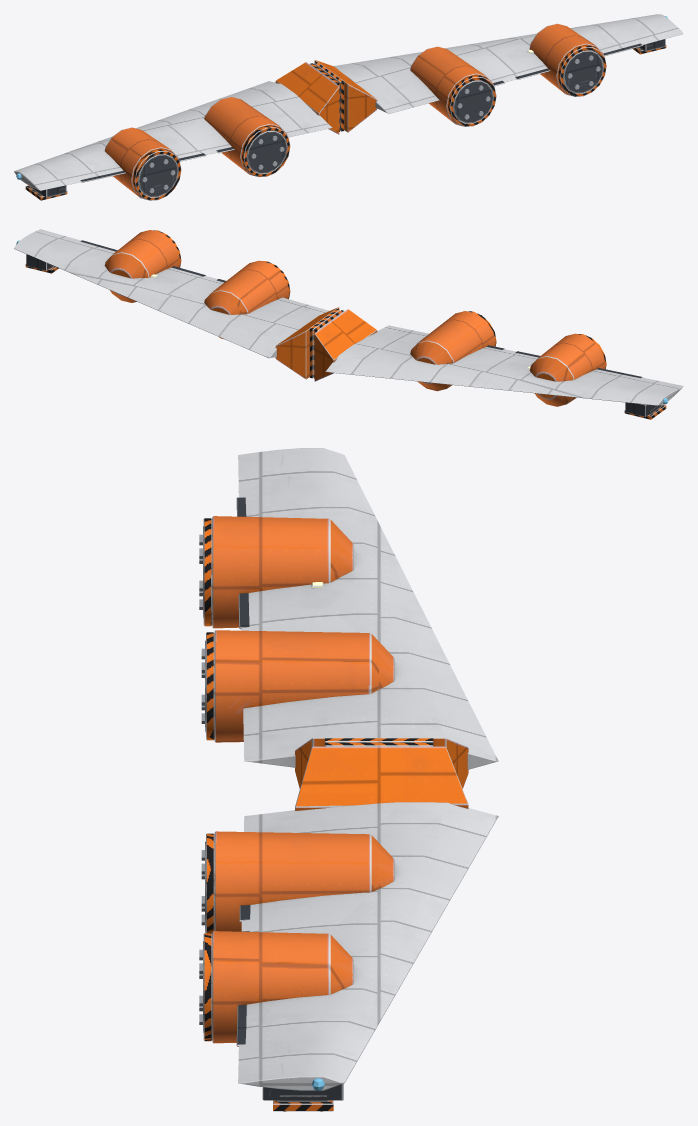
File: ala_larga_t2.fbx
The picture shows the model from 3 angles, top to bottom: view 1: azimuth 30°, elevation 25°; view 2: azimuth 150°, elevation 25°; view 3: azimuth 270°, elevation 25°; orthographic projection. The views are drawn at different scales.
Parts seen in each view (by area): view 1: ala_larga_t2_izq, ala_larga_t2_der; view 2: ala_larga_t2_izq, ala_larga_t2_der; view 3: ala_larga_t2_der, ala_larga_t2_izq.
Boxes of the visible parts, x1,y1,x2,y2 form: ala_larga_t2_izq: [14, 62, 339, 200]; ala_larga_t2_der: [314, 14, 683, 132]; ala_larga_t2_izq: [314, 309, 683, 419]; ala_larga_t2_der: [14, 229, 339, 379]; ala_larga_t2_der: [199, 742, 498, 1111]; ala_larga_t2_izq: [199, 448, 498, 788].
Size of the model in its own units: 22.24 by 1.81 by 4.42.
